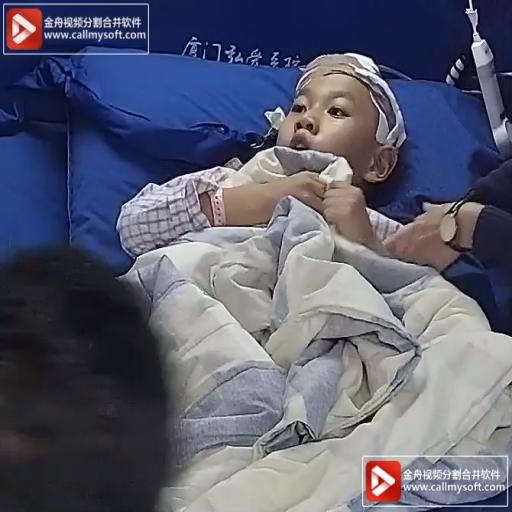Seizure: (280, 49, 399, 180), (287, 58, 406, 188)
